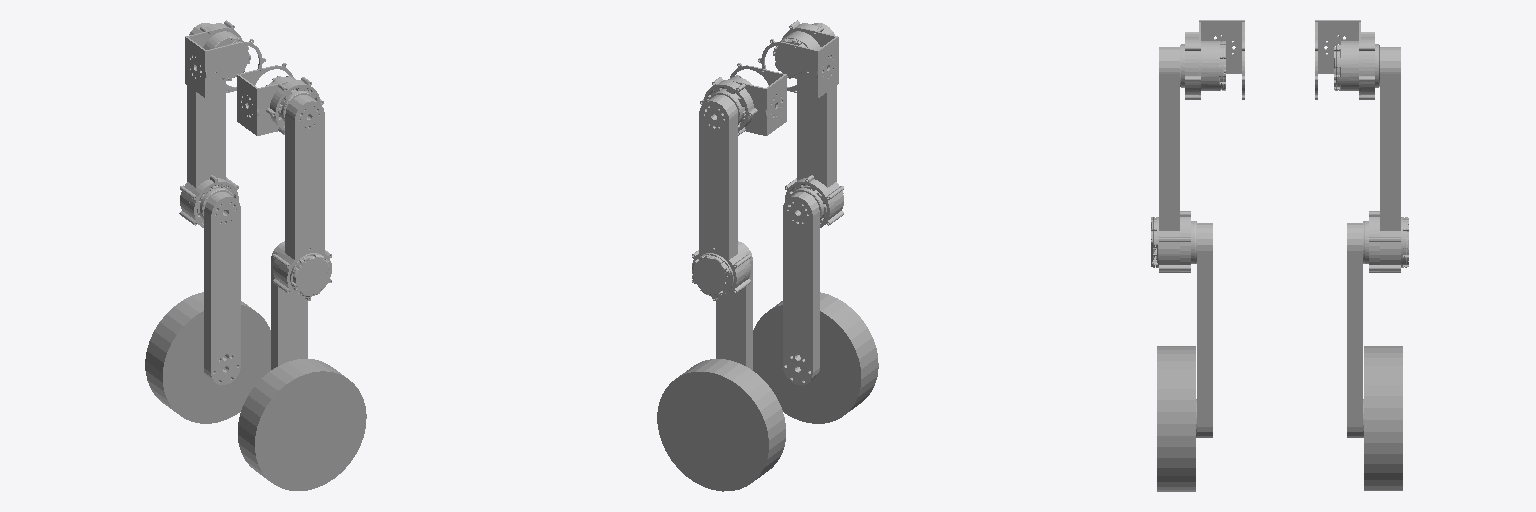
The robot description file, URDF, robot "wheelleg_sw":
<?xml version="1.0" encoding="utf-8"?>
<!-- This URDF was automatically created by SolidWorks to URDF Exporter! Originally created by Stephen Brawner (brawner@gmail.com) 
     Commit Version: 1.6.0-4-g7f85cfe  Build Version: 1.6.7995.38578
     For more information, please see http://wiki.ros.org/sw_urdf_exporter -->
<robot
  name="wheelleg_sw">
  <link
    name="base_link">
    <inertial>
      <origin
        xyz="-0.0307229102297883 0.000942893915863996 0.00638368211848377"
        rpy="0 0 0" />
      <mass
        value="3.34811011770663" />
      <inertia
        ixx="0.03215307"
        ixy="-0.00019097"
        ixz="-0.00086790"
        iyy="0.04707401"
        iyz="-0.00007337"
        izz="0.06467644" />
    </inertial>
    <visual>
      <origin
        xyz="0 0 0"
        rpy="0 0 0" />
      <geometry>
        <mesh
          filename="../meshes/base_link.STL" />
      </geometry>
      <material
        name="">
        <color
          rgba="0.752941176470588 0.752941176470588 0.752941176470588 1" />
      </material>
    </visual>
    <collision>
      <origin
        xyz="0 0 0"
        rpy="0 0 0" />
      <geometry>
        <box
          size="0.35 0.25 0.146" />
      </geometry>
    </collision>
  </link>
  <link
    name="R_hip_Link">
    <inertial>
      <origin
        xyz="-0.00294640478326913 -0.0225816232470383 0.000351796315852956"
        rpy="0 0 0" />
      <mass
        value="0.611867954595686" />
      <inertia
        ixx="0.00037396"
        ixy="0.00004058"
        ixz="0.00000111"
        iyy="0.00043092"
        iyz="-0.00000509"
        izz="0.00045261" />
    </inertial>
    <visual>
      <origin
        xyz="0 0 0"
        rpy="0 0 0" />
      <geometry>
        <mesh
          filename="../meshes/R_hip_Link.STL" />
      </geometry>
      <material
        name="">
        <color
          rgba="0.752941176470588 0.752941176470588 0.752941176470588 1" />
      </material>
    </visual>
  </link>
  <joint
    name="R_hip_Joint"
    type="revolute">
    <origin
      xyz="-0.0246999999999998 -0.0750000000000003 0"
      rpy="0 0 0" />
    <parent
      link="base_link" />
    <child
      link="R_hip_Link" />
    <axis
      xyz="1 0 0" />
    <limit
      lower="-0.38152897449"
      upper="0.17331119472"
      effort="30"
      velocity="25" />
  </joint>
  <link
    name="R_thigh_Link">
    <inertial>
      <origin
        xyz="-0.000231958662590681 0.00334519814463108 -0.18714012966994"
        rpy="0 0 0" />
      <mass
        value="1.03817422165266" />
      <inertia
        ixx="0.00804816"
        ixy="-0.00000535"
        ixz="-0.00001654"
        iyy="0.00812683"
        iyz="0.00022017"
        izz="0.00045456" />
    </inertial>
    <visual>
      <origin
        xyz="0 0 0"
        rpy="0 0 0" />
      <geometry>
        <mesh
          filename="../meshes/R_thigh_Link.STL" />
      </geometry>
      <material
        name="">
        <color
          rgba="0.752941176470588 0.752941176470588 0.752941176470588 1" />
      </material>
    </visual>
    <collision>
      <origin
        xyz="0 0.0028 -0.2458"
        rpy="0 0 0" />
      <geometry>
        <box
          size="0.0762 0.0533 0.0954" />
      </geometry>
    </collision>
  </link>
  <joint
    name="R_thigh_Joint"
    type="revolute">
    <origin
      xyz="0 -0.0670499999999999 0"
      rpy="0 0 0" />
    <parent
      link="R_hip_Link" />
    <child
      link="R_thigh_Link" />
    <axis
      xyz="0 1 0" />
    <limit
      lower="-0.383274303"
      upper="1.4"
      effort="30"
      velocity="25" />
  </joint>
  <link
    name="R_calf_Link">
    <inertial>
      <origin
        xyz="-4.44089209850063E-16 5.55111512312578E-17 -0.124224047590097"
        rpy="0 0 0" />
      <mass
        value="0.40832429662738" />
      <inertia
        ixx="0.00276584"
        ixy="0"
        ixz="0"
        iyy="0.00283387"
        iyz="0"
        izz="0.00009945" />
    </inertial>
    <visual>
      <origin
        xyz="0 0 0"
        rpy="0 0 0" />
      <geometry>
        <mesh
          filename="../meshes/R_calf_Link.STL" />
      </geometry>
      <material
        name="">
        <color
          rgba="0.752941176470588 0.752941176470588 0.752941176470588 1" />
      </material>
    </visual>
    <collision>
      <origin
        xyz="0 0 -0.125"
        rpy="0 0 0" />
      <geometry>
        <box
          size="0.05 0.02 0.3" />
      </geometry>
    </collision>
  </link>
  <joint
    name="R_calf_Joint"
    type="revolute">
    <origin
      xyz="0 0.04555 -0.25"
      rpy="0 0 0" />
    <parent
      link="R_thigh_Link" />
    <child
      link="R_calf_Link" />
    <axis
      xyz="0 1 0" />
    <limit
      lower="-2.5307274154"
      upper="0.73809974067"
      effort="30"
      velocity="25" />
  </joint>
  <link
    name="R_foot_Link">
    <inertial>
      <origin
        xyz="0 7.4139553451813E-05 5.55111512312578E-17"
        rpy="0 0 0" />
      <mass
        value="2.17452997077302" />
      <inertia
        ixx="0.00519591"
        ixy="0"
        ixz="0"
        iyy="0.00947998"
        iyz="0"
        izz="0.00519591" />
    </inertial>
    <visual>
      <origin
        xyz="0 0 0"
        rpy="0 0 0" />
      <geometry>
        <mesh
          filename="../meshes/R_foot_Link.STL" />
      </geometry>
      <material
        name="">
        <color
          rgba="0.698039215686274 0.698039215686274 0.698039215686274 1" />
      </material>
    </visual>
    <collision>
      <origin
        xyz="0 0 0"
        rpy="1.5708 0 0" />
      <geometry>
        <cylinder
          radius="0.0935"
          length="0.05" />
      </geometry>
    </collision>
  </link>
  <joint
    name="R_foot_Joint"
    type="revolute">
    <origin
      xyz="0 -0.037 -0.25"
      rpy="0 0 0" />
    <parent
      link="R_calf_Link" />
    <child
      link="R_foot_Link" />
    <axis
      xyz="0 1 0" />
    <limit effort="10" lower="-999999" upper="999999" velocity="21.9911" />
  </joint>
  <link
    name="L_hip_Link">
    <inertial>
      <origin
        xyz="-0.00294640478326924 0.0225816232470383 -0.000351796315852873"
        rpy="0 0 0" />
      <mass
        value="0.611867954595687" />
      <inertia
        ixx="0.00037396"
        ixy="-0.00004058"
        ixz="-0.00000111"
        iyy="0.00043092"
        iyz="-0.00000509"
        izz="0.00045261" />
    </inertial>
    <visual>
      <origin
        xyz="0 0 0"
        rpy="0 0 0" />
      <geometry>
        <mesh
          filename="../meshes/L_hip_Link.STL" />
      </geometry>
      <material
        name="">
        <color
          rgba="0.752941176470588 0.752941176470588 0.752941176470588 1" />
      </material>
    </visual>
  </link>
  <joint
    name="L_hip_Joint"
    type="revolute">
    <origin
      xyz="-0.0247000000000002 0.0749999999999996 0"
      rpy="0 0 0" />
    <parent
      link="base_link" />
    <child
      link="L_hip_Link" />
    <axis
      xyz="1 0 0" />
    <limit
      lower="-0.17331119472"
      upper="0.38152897449"
      effort="30"
      velocity="25" />
  </joint>
  <link
    name="L_thigh_Link">
    <inertial>
      <origin
        xyz="0.000231958662589571 -0.00334519814463096 -0.18714012966994"
        rpy="0 0 0" />
      <mass
        value="1.03817422165266" />
      <inertia
        ixx="0.00804816"
        ixy="-0.00000535"
        ixz="0.00001654"
        iyy="0.00812683"
        iyz="-0.00022017"
        izz="0.00045456" />
    </inertial>
    <visual>
      <origin
        xyz="0 0 0"
        rpy="0 0 0" />
      <geometry>
        <mesh
          filename="../meshes/L_thigh_Link.STL" />
      </geometry>
      <material
        name="">
        <color
          rgba="0.752941176470588 0.752941176470588 0.752941176470588 1" />
      </material>
    </visual>
    <collision>
      <origin
        xyz="0 -0.0028 -0.2458"
        rpy="0 0 0" />
      <geometry>
        <box
          size="0.0762 0.0533 0.0954" />
      </geometry>
    </collision>
  </link>
  <joint
    name="L_thigh_Joint"
    type="revolute">
    <origin
      xyz="0 0.06705 0"
      rpy="0 0 0" />
    <parent
      link="L_hip_Link" />
    <child
      link="L_thigh_Link" />
    <axis
      xyz="0 1 0" />
    <limit
      lower="-0.383274303"
      upper="1.4"
      effort="30"
      velocity="25" />
  </joint>
  <link
    name="L_calf_Link">
    <inertial>
      <origin
        xyz="-5.27355936696949E-16 0 -0.124224047590098"
        rpy="0 0 0" />
      <mass
        value="0.40832429662738" />
      <inertia
        ixx="0.00276584"
        ixy="0"
        ixz="0"
        iyy="0.00283387"
        iyz="0"
        izz="0.00009945" />
    </inertial>
    <visual>
      <origin
        xyz="0 0 0"
        rpy="0 0 0" />
      <geometry>
        <mesh
          filename="../meshes/L_calf_Link.STL" />
      </geometry>
      <material
        name="">
        <color
          rgba="0.752941176470588 0.752941176470588 0.752941176470588 1" />
      </material>
    </visual>
    <collision>
      <origin
        xyz="0 0 -0.125"
        rpy="0 0 0" />
      <geometry>
        <box
          size="0.05 0.02 0.3" />
      </geometry>
    </collision>
  </link>
  <joint
    name="L_calf_Joint"
    type="revolute">
    <origin
      xyz="0 -0.0455499999999999 -0.25"
      rpy="0 0 0" />
    <parent
      link="L_thigh_Link" />
    <child
      link="L_calf_Link" />
    <axis
      xyz="0 1 0" />
    <limit
      lower="-2.5307274154"
      upper="0.73809974067"
      effort="30"
      velocity="25" />
  </joint>
  <link
    name="L_foot_Link">
    <inertial>
      <origin
        xyz="-5.55111512312578E-17 -7.41395534517705E-05 -1.66533453693773E-16"
        rpy="0 0 0" />
      <mass
        value="2.17452997077301" />
      <inertia
        ixx="0.00519591"
        ixy="0"
        ixz="0"
        iyy="0.00947998"
        iyz="0"
        izz="0.00519591" />
    </inertial>
    <visual>
      <origin
        xyz="0 0 0"
        rpy="0 0 0" />
      <geometry>
        <mesh
          filename="../meshes/L_foot_Link.STL" />
      </geometry>
      <material
        name="">
        <color
          rgba="0.698039215686274 0.698039215686274 0.698039215686274 1" />
      </material>
    </visual>
    <collision>
      <origin
        xyz="0 0 0"
        rpy="1.5708 0 0" />
      <geometry>
        <cylinder
          radius="0.0935"
          length="0.05" />
      </geometry>
    </collision>
  </link>
  <joint
    name="L_foot_Joint"
    type="revolute">
    <origin
      xyz="0 0.037 -0.25"
      rpy="0 0 0" />
    <parent
      link="L_calf_Link" />
    <child
      link="L_foot_Link" />
    <axis
      xyz="0 1 0" />
    <limit effort="10" lower="-999999" upper="999999" velocity="21.9911" />
  </joint>
</robot>

--- Render facts (derived) ---
The picture shows the robot from 3 angles, left to right: view 1: azimuth 30°, elevation 25°; view 2: azimuth 150°, elevation 25°; view 3: azimuth 270°, elevation 25°; orthographic projection.
Robot: wheelleg_sw — 9 links, 8 joints (8 revolute); root link base_link; default pose: every joint at zero.
Visible links, largest first — view 1: R_foot_Link, L_foot_Link, R_thigh_Link, L_calf_Link, L_thigh_Link, L_hip_Link, R_hip_Link, R_calf_Link; view 2: L_foot_Link, R_foot_Link, L_thigh_Link, R_calf_Link, R_thigh_Link, R_hip_Link, L_hip_Link, L_calf_Link; view 3: R_thigh_Link, L_thigh_Link, R_foot_Link, L_foot_Link, R_hip_Link, L_hip_Link, R_calf_Link, L_calf_Link.
Link boxes in pixels (<box>): R_foot_Link: <box>238,359,366,490</box>; L_foot_Link: <box>145,292,270,423</box>; R_thigh_Link: <box>273,95,331,300</box>; L_calf_Link: <box>204,192,240,384</box>; L_thigh_Link: <box>179,23,238,227</box>; L_hip_Link: <box>185,20,265,97</box>; R_hip_Link: <box>237,63,323,135</box>; R_calf_Link: <box>271,241,307,369</box>; L_foot_Link: <box>657,359,785,491</box>; R_foot_Link: <box>753,292,878,423</box>; L_thigh_Link: <box>692,95,750,300</box>; R_calf_Link: <box>783,192,819,385</box>; R_thigh_Link: <box>785,23,843,227</box>; R_hip_Link: <box>758,20,838,97</box>; L_hip_Link: <box>700,63,786,135</box>; L_calf_Link: <box>716,241,752,370</box>; R_thigh_Link: <box>1151,47,1196,272</box>; L_thigh_Link: <box>1363,47,1408,272</box>; R_foot_Link: <box>1157,346,1196,491</box>; L_foot_Link: <box>1363,346,1402,490</box>; R_hip_Link: <box>1180,20,1244,99</box>; L_hip_Link: <box>1315,20,1379,99</box>; R_calf_Link: <box>1197,223,1212,437</box>; L_calf_Link: <box>1347,223,1362,437</box>.
Bounding box of the posed robot: 0.1869 × 0.3316 × 0.6316 m (x, y, z).
Meshes: 9 distinct files referenced, 8 mesh visuals loaded (8 binary STL); not drawn: 1 (reference not matched to a file when rendering).
